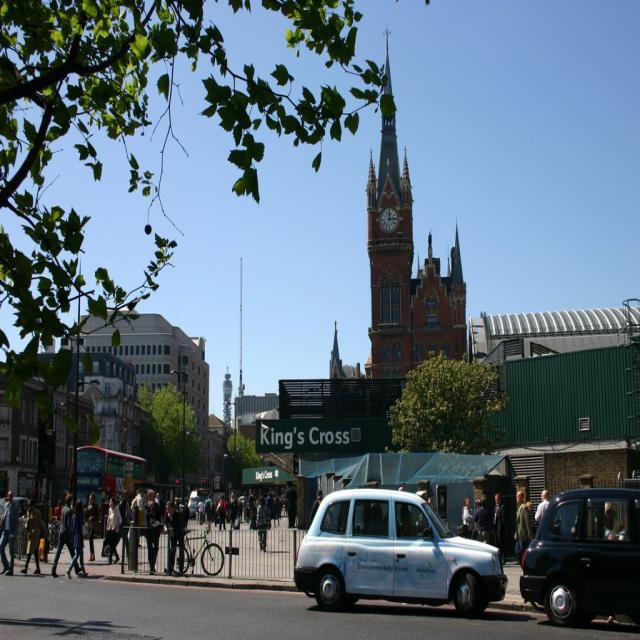car: (288, 485, 509, 617)
